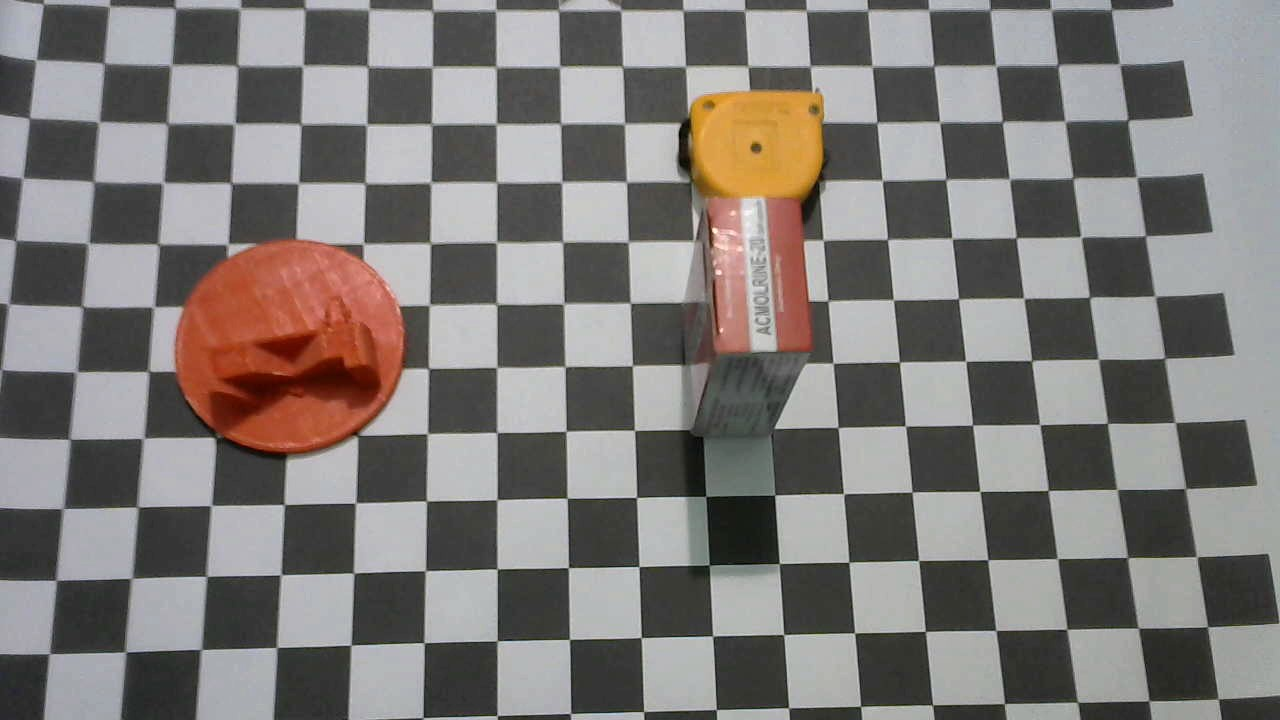blue: (680, 89, 825, 209)
green: (177, 240, 406, 459)
red: (684, 198, 810, 440)
